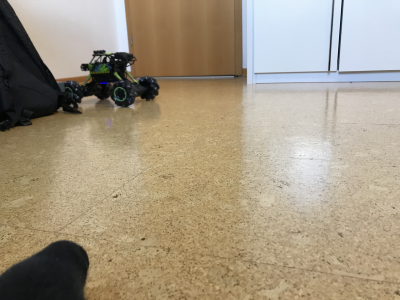remote control car: (60, 43, 161, 111)
